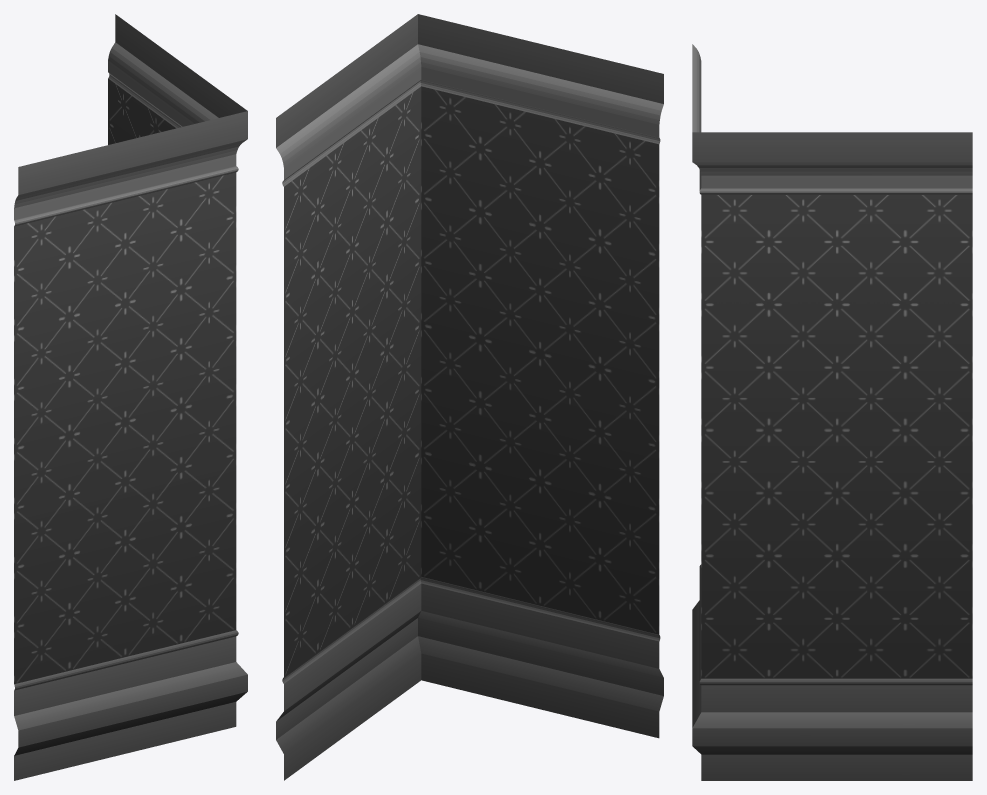
Rendered from Wall_02_Ext_Light.fbx.
The picture shows the model from 3 angles, left to right: view 1: azimuth 30°, elevation 25°; view 2: azimuth 150°, elevation 25°; view 3: azimuth 270°, elevation 25°; orthographic projection. The views are drawn at different scales.
Visible parts, largest first — view 1: Wall_02_Ext_Light; view 2: Wall_02_Ext_Light; view 3: Wall_02_Ext_Light.
Part boxes in pixels (x1,y1,x2,y2): Wall_02_Ext_Light: (14,14,247,780); Wall_02_Ext_Light: (276,14,663,780); Wall_02_Ext_Light: (692,44,972,780).
Size of the model in its own units: 1.03 by 2.65 by 1.03.
